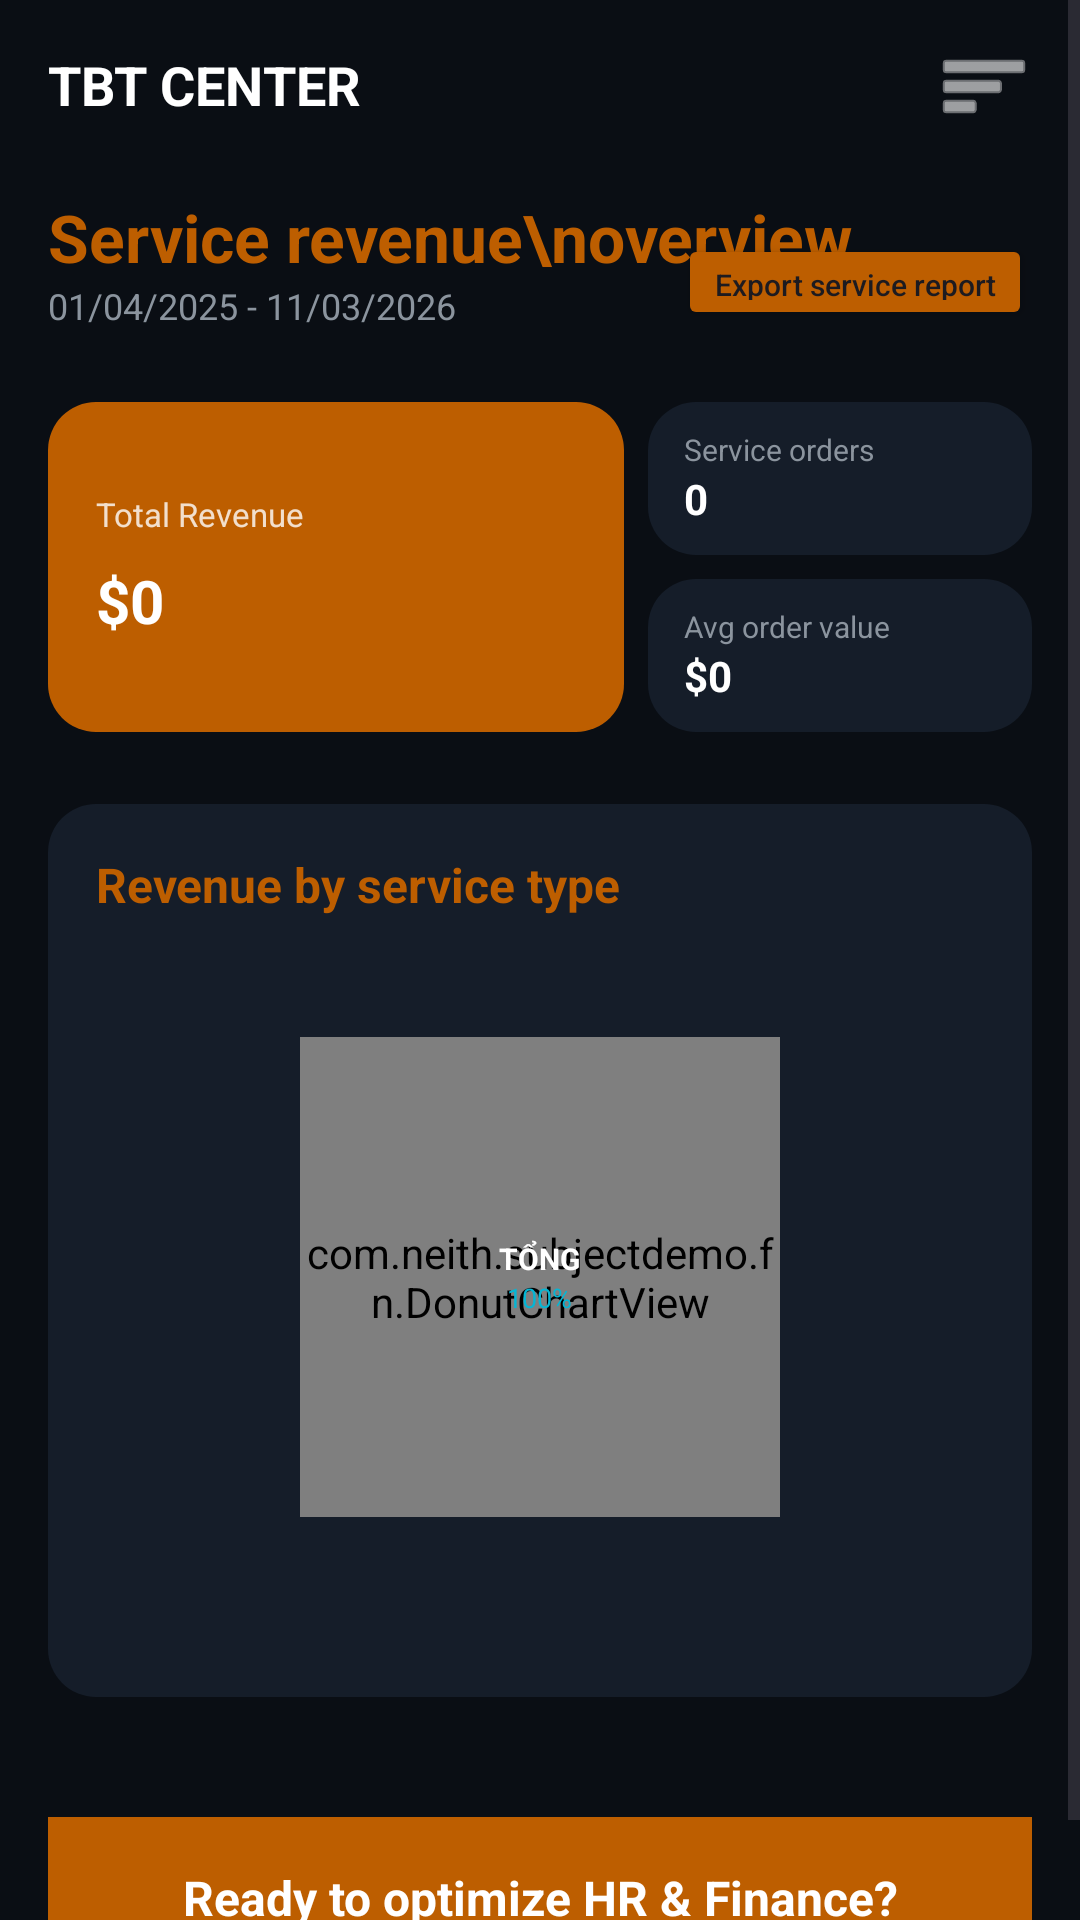

Named icons in this screenshot (1080*1920) and their centers, (x,y):
Menu: (984,86)
